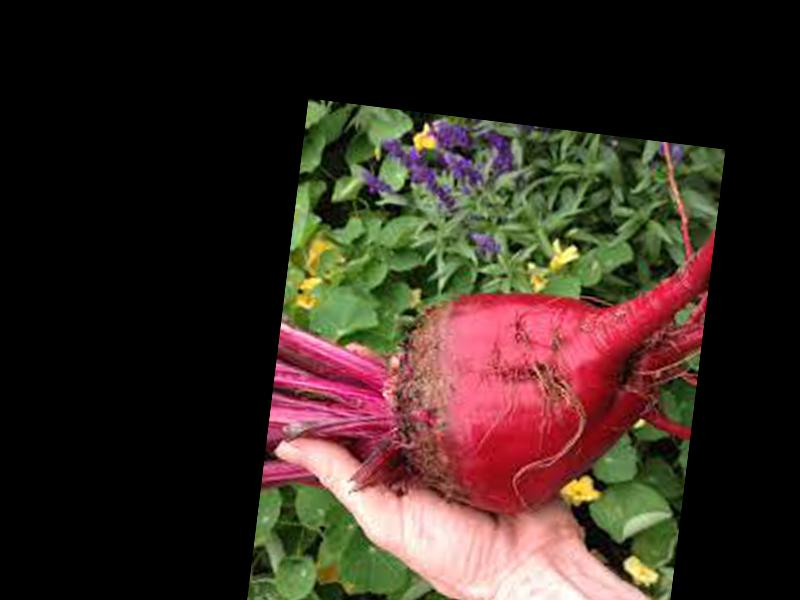Beet: (263, 187, 714, 535)
